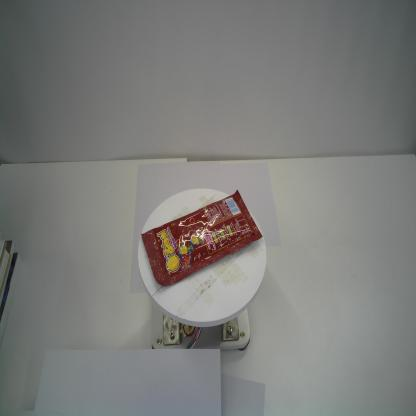Candy: (140, 189, 264, 288)
